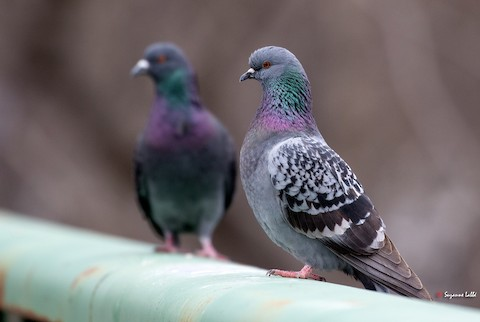pigeon: (234, 43, 441, 305), (124, 39, 244, 263)
